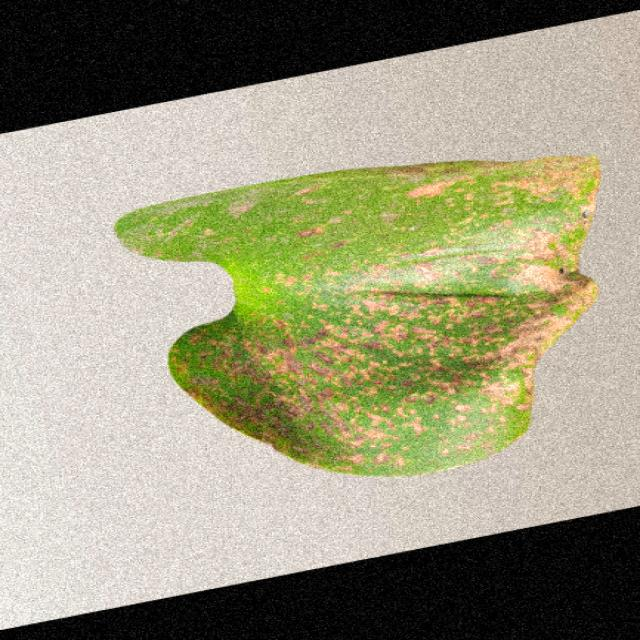daun berpenyakit bercak: (115, 156, 600, 474)
